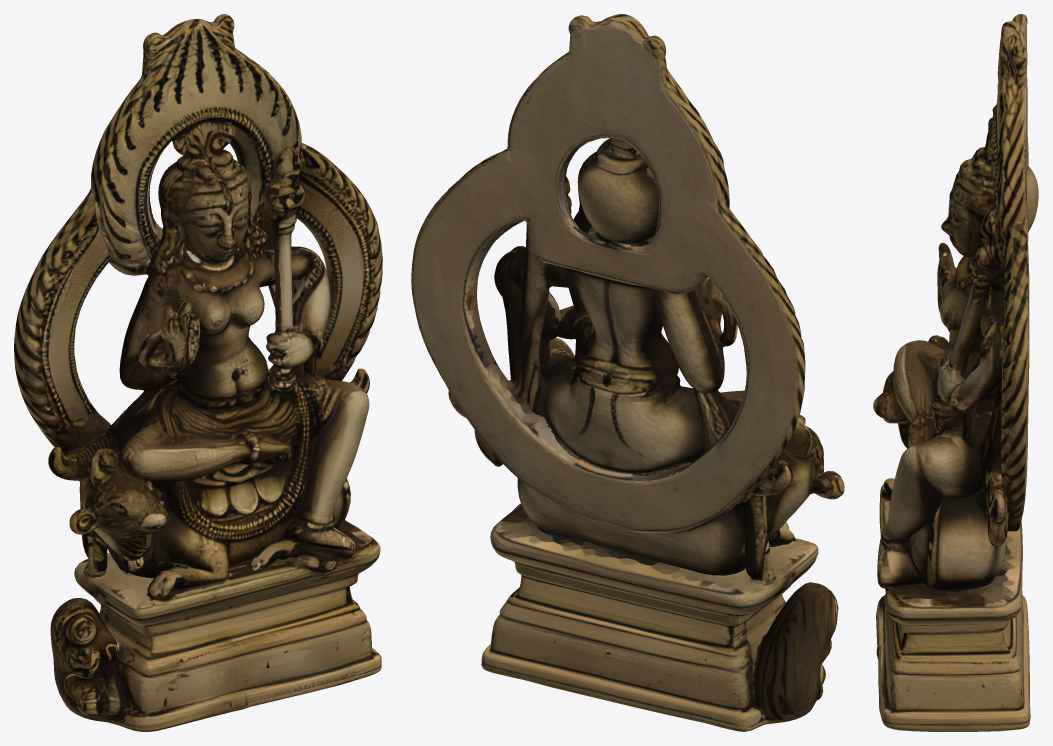
3 renders of one model, left to right at view 1: azimuth 30°, elevation 25°; view 2: azimuth 150°, elevation 25°; view 3: azimuth 270°, elevation 25°, orthographic. The views are drawn at different scales.
Visible parts, largest first — view 1: textured_mesh; view 2: textured_mesh; view 3: textured_mesh.
Boxes of the visible parts, x1=… form: textured_mesh: x1=14, y1=14, x2=382, y2=731; textured_mesh: x1=411, y1=14, x2=844, y2=731; textured_mesh: x1=873, y1=14, x2=1038, y2=731.
Size of the model in its own units: 1.19 by 1.99 by 0.4616.
Materials: 1 (1 with a texture image).
